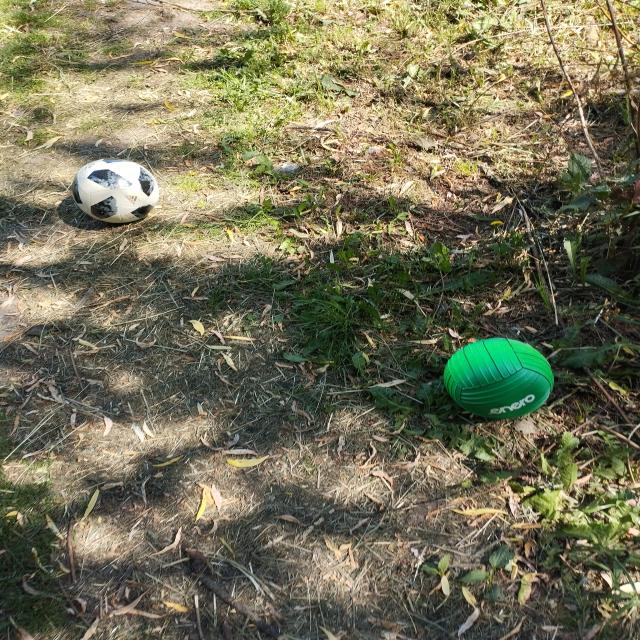nozna: (71, 158, 159, 223)
zielona: (443, 337, 555, 419)
